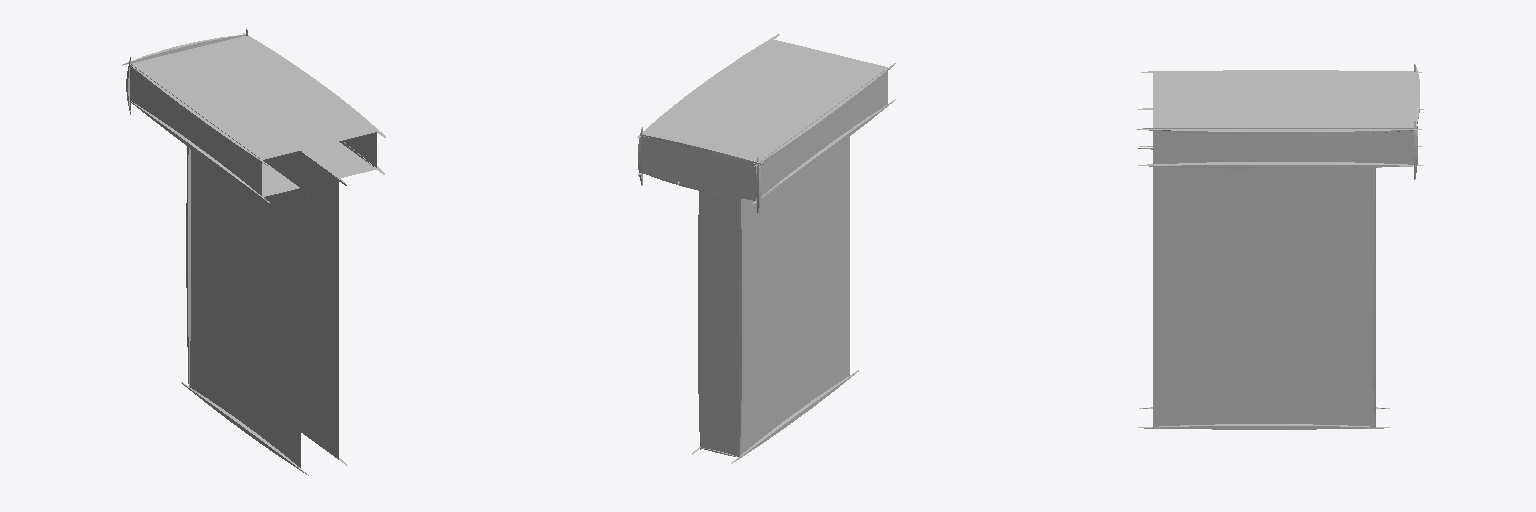
The model's file is Wall_E.obj.
3 renders of one model, left to right at view 1: azimuth 30°, elevation 25°; view 2: azimuth 150°, elevation 25°; view 3: azimuth 270°, elevation 25°, orthographic.
Parts seen in each view (by area): view 1: Wall_E_Wall_E_Wall_E_polySurface4, Wall_E_Wall_E_polySurface27; view 2: Wall_E_Wall_E_Wall_E_polySurface4, Wall_E_Wall_E_polySurface27; view 3: Wall_E_Wall_E_Wall_E_polySurface4, Wall_E_Wall_E_polySurface27.
Boxes of the visible parts, box(x1,y1,x2,y2) form: Wall_E_Wall_E_Wall_E_polySurface4: box(131, 36, 376, 467); Wall_E_Wall_E_polySurface27: box(122, 29, 385, 475); Wall_E_Wall_E_Wall_E_polySurface4: box(641, 39, 887, 456); Wall_E_Wall_E_polySurface27: box(637, 34, 895, 463); Wall_E_Wall_E_Wall_E_polySurface4: box(1153, 72, 1415, 426); Wall_E_Wall_E_polySurface27: box(1137, 64, 1423, 429).
Size of the model in its own units: 3.43 by 8.19 by 6.52.